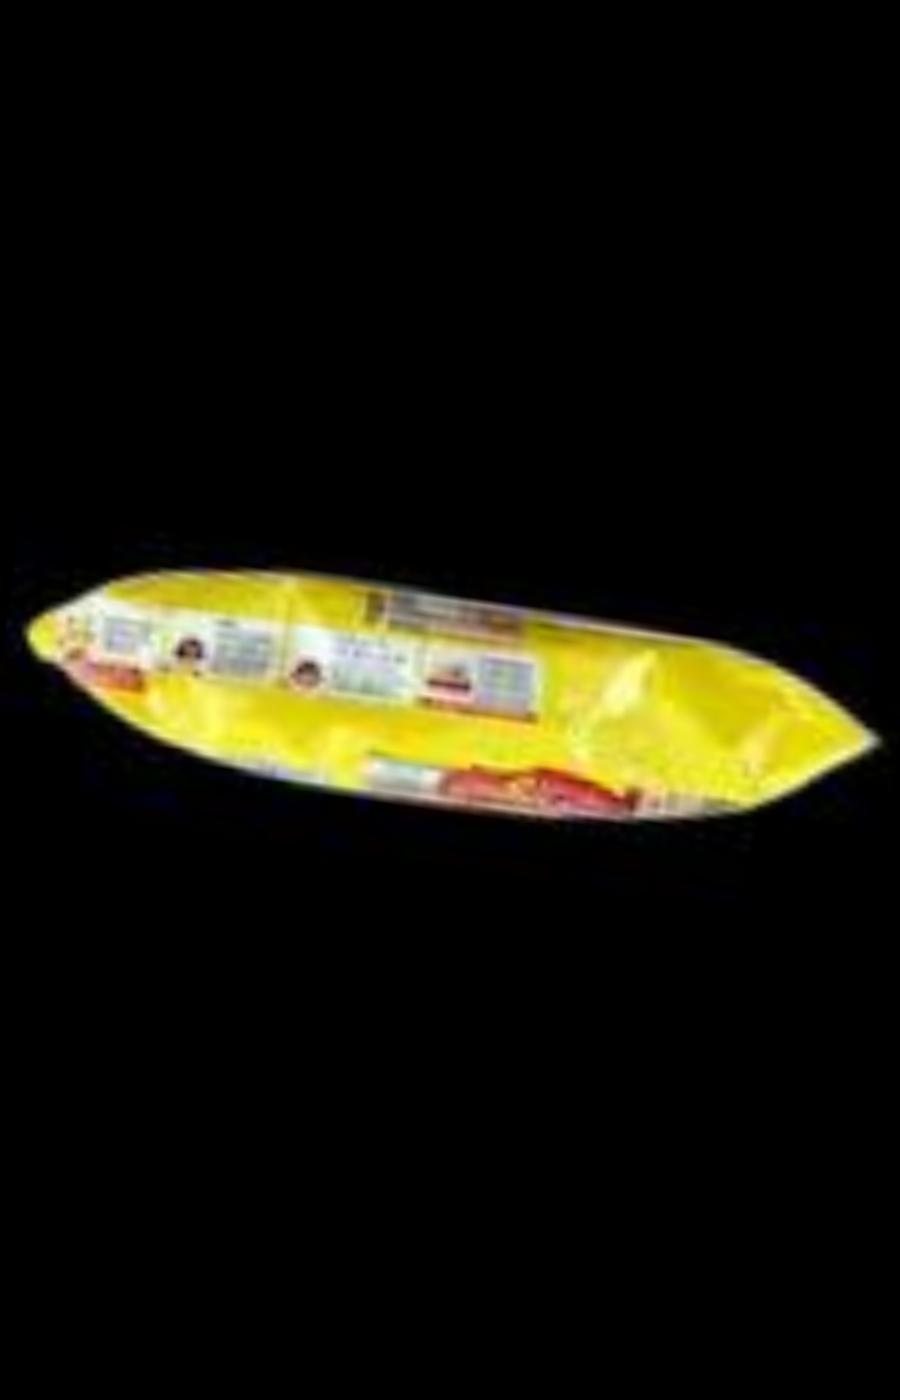Maggi 2-Minute Masala Instant Noodles 280 g: (6, 542, 889, 863)
